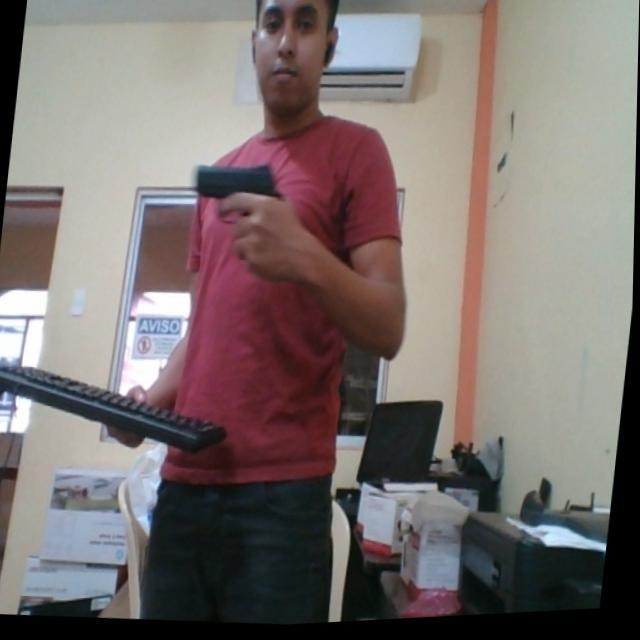weapon: (190, 160, 288, 234)
